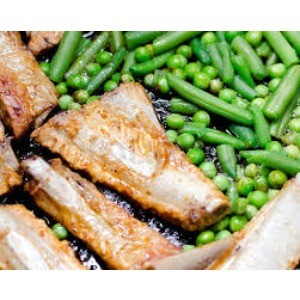green pea_brain food: (201, 55, 290, 149)
